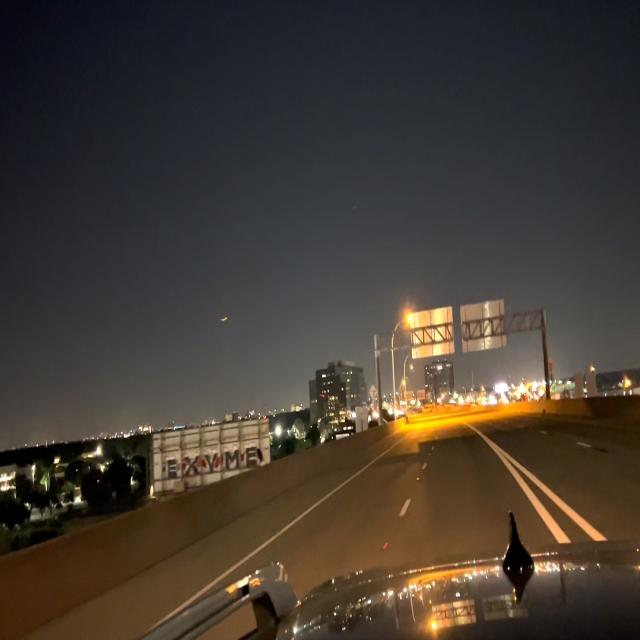back-of-sign: (462, 298, 506, 354), (409, 307, 454, 360)
